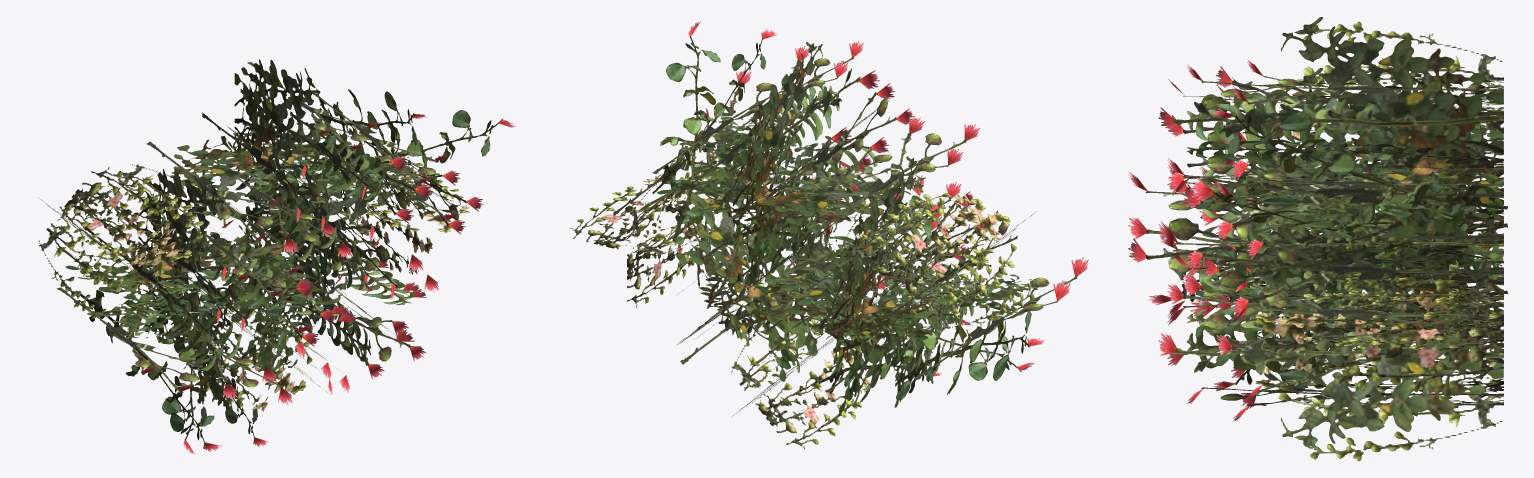
The model's file is foliage_gardenflowers_red_group_LOD2.obj.
3 views of the same model, side by side, from view 1: azimuth 30°, elevation 25°; view 2: azimuth 150°, elevation 25°; view 3: azimuth 270°, elevation 25° (orthographic). The views are drawn at different scales.
Parts seen in each view (by area): view 1: mtl_gardenflowers; view 2: mtl_gardenflowers; view 3: mtl_gardenflowers.
Boxes of the visible parts, box(x1,y1,x2,y2) form: mtl_gardenflowers: box(38, 59, 515, 454); mtl_gardenflowers: box(570, 21, 1088, 449); mtl_gardenflowers: box(1128, 17, 1508, 461).
Bounding box in the file's own units: 99.22 × 83.36 × 66.35.
